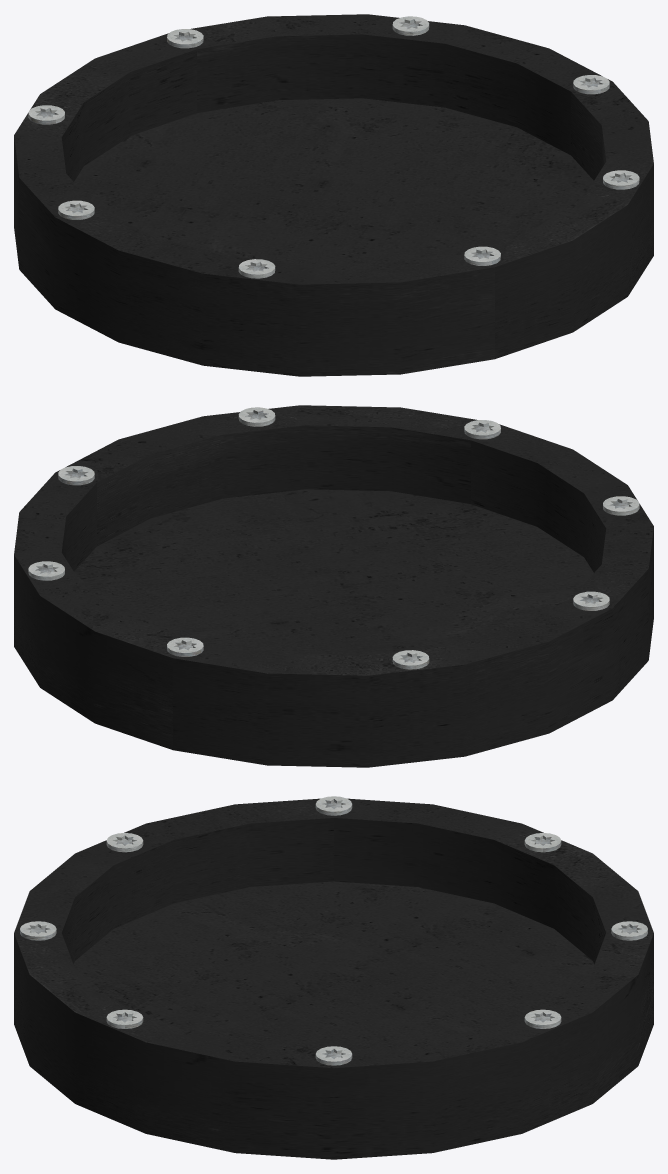
The model's file is F_Fan_Frame_01.fbx.
The picture shows the model from 3 angles, top to bottom: view 1: azimuth 30°, elevation 25°; view 2: azimuth 150°, elevation 25°; view 3: azimuth 270°, elevation 25°; orthographic projection.
Parts seen in each view (by area): view 1: F_Fan_Frame_01; view 2: F_Fan_Frame_01; view 3: F_Fan_Frame_01.
Boxes of the visible parts, box(x1,y1,x2,y2) form: F_Fan_Frame_01: box(14, 14, 653, 376); F_Fan_Frame_01: box(14, 405, 653, 767); F_Fan_Frame_01: box(14, 796, 653, 1159).
Size of the model in its own units: 36.36 by 5.99 by 36.36.
Materials: 1 (1 with a texture image).
